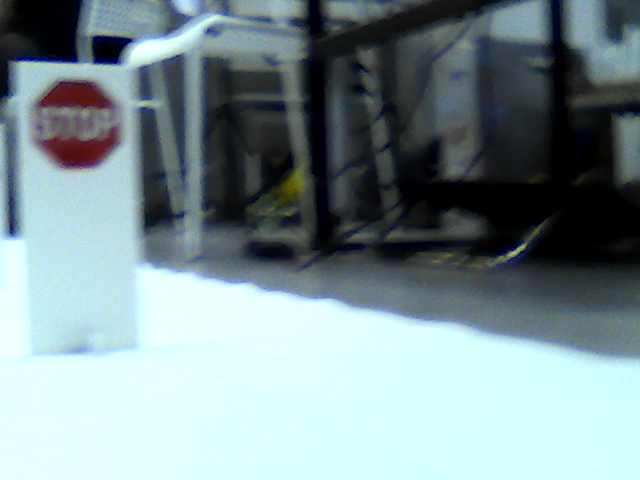Stop: (29, 74, 123, 166)
